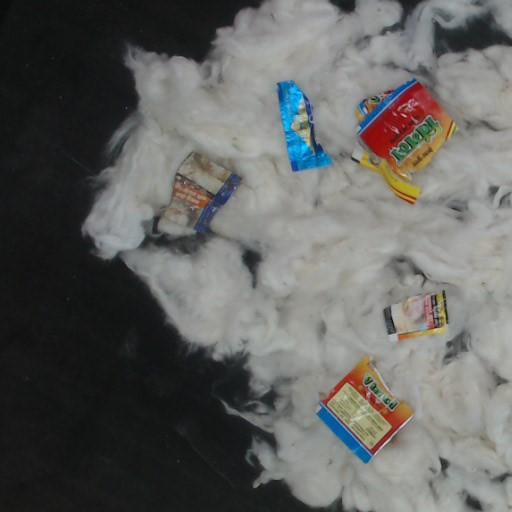conveyor belt: (436, 14, 511, 55), (396, 0, 420, 27), (244, 251, 258, 274), (466, 495, 481, 511), (333, 0, 354, 11)
cotton: (82, 0, 511, 511)
packet: (351, 79, 455, 203), (317, 357, 412, 462), (158, 152, 240, 235), (278, 81, 331, 171), (383, 290, 448, 340)
